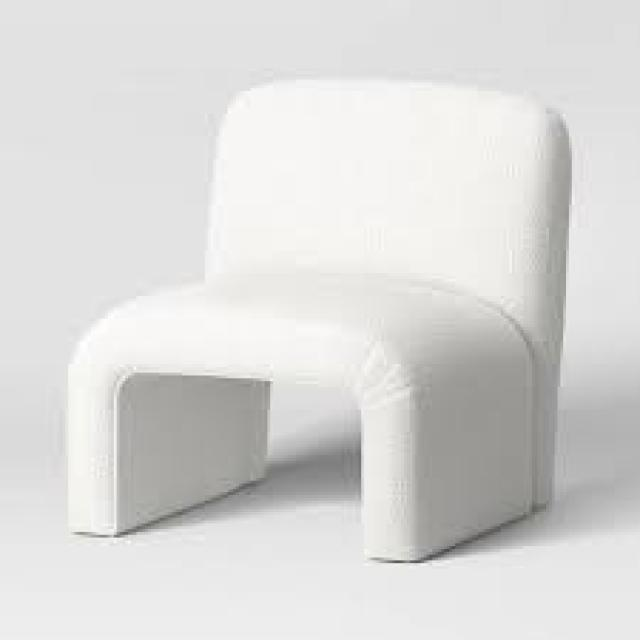chair: (31, 46, 640, 600)
